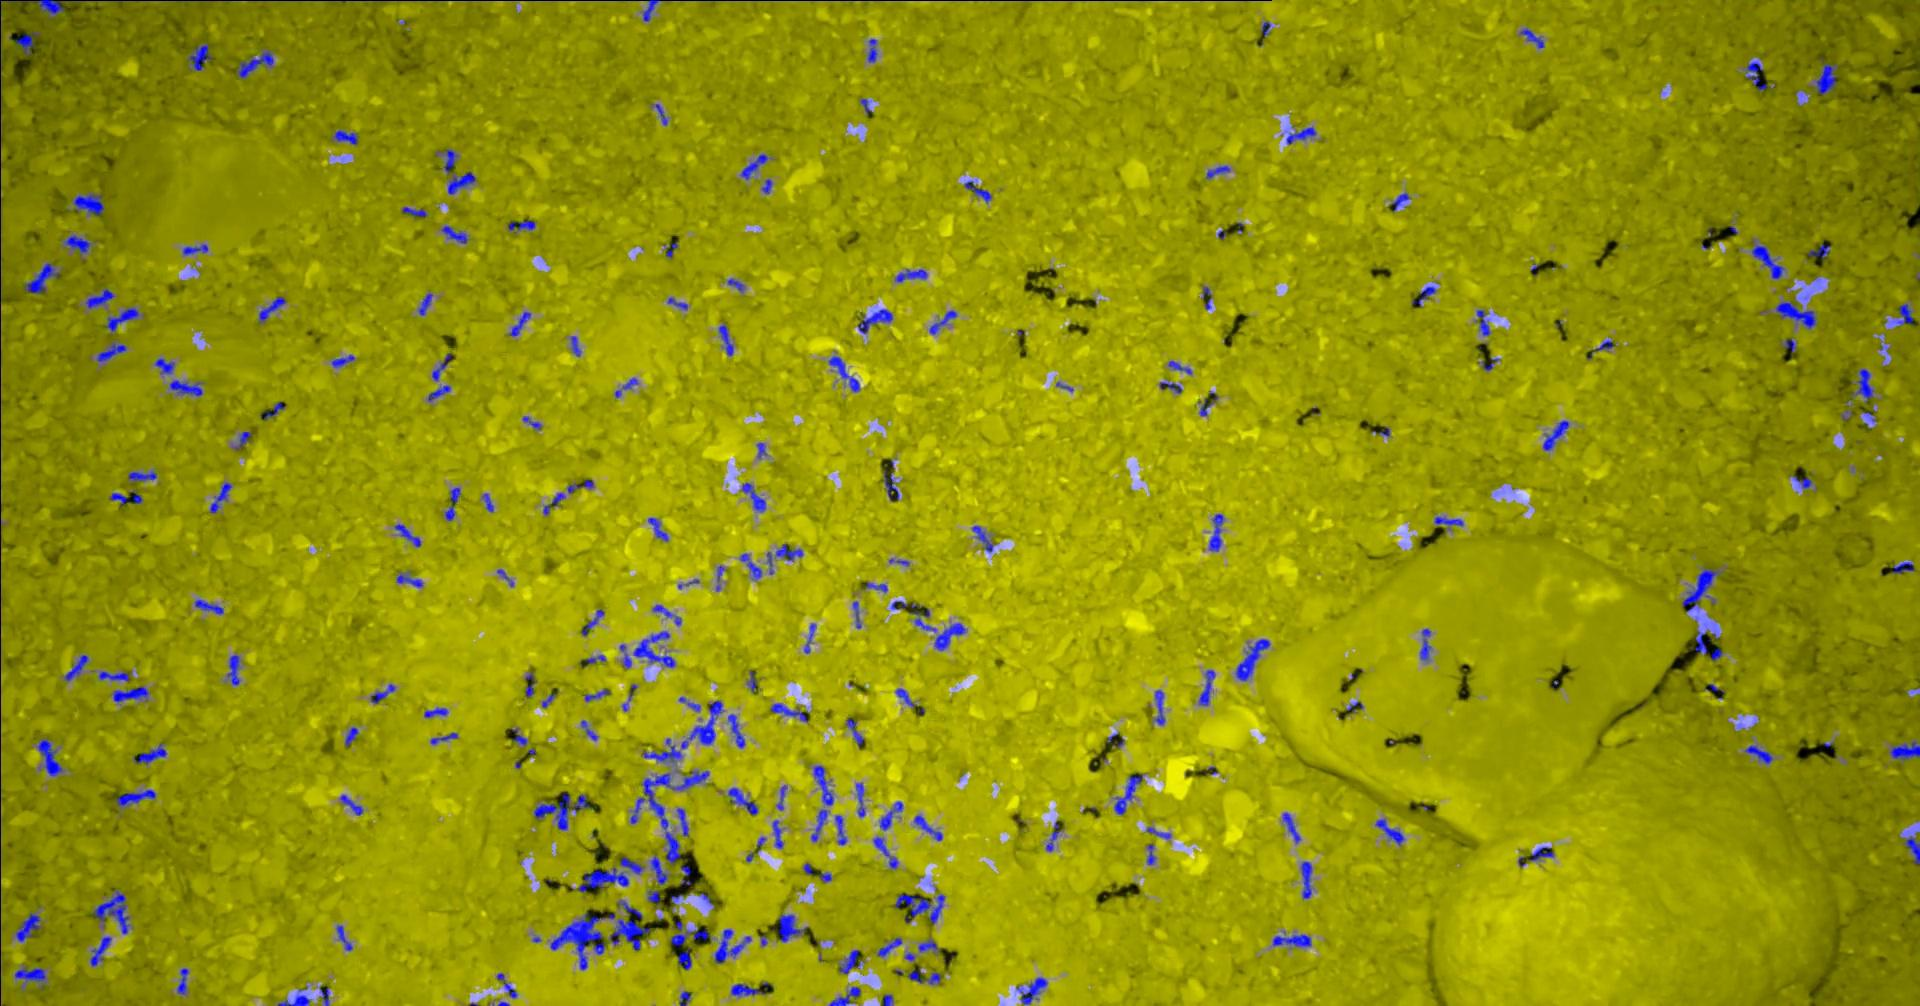ant: (632, 772, 682, 864), (535, 793, 592, 829), (1683, 567, 1721, 611), (690, 700, 725, 744), (895, 893, 946, 923), (635, 630, 677, 667), (1, 0, 88, 18), (95, 889, 130, 934), (1237, 638, 1271, 680), (891, 600, 937, 630), (573, 868, 630, 890), (611, 918, 651, 950), (716, 929, 752, 963), (1752, 241, 1785, 278), (1115, 774, 1144, 814), (25, 262, 61, 293), (768, 542, 804, 574), (830, 354, 861, 391), (1777, 301, 1817, 328), (239, 50, 276, 77), (672, 920, 710, 946), (38, 738, 63, 776), (105, 307, 145, 332), (644, 738, 683, 762), (858, 307, 894, 333), (936, 622, 968, 650), (1018, 977, 1049, 1005), (815, 765, 836, 805), (729, 788, 759, 814), (874, 837, 900, 868), (1817, 57, 1839, 94), (1377, 818, 1406, 845), (778, 915, 808, 941), (742, 152, 770, 179), (260, 296, 288, 323), (116, 789, 157, 807), (1544, 420, 1570, 450), (1854, 368, 1876, 401), (17, 913, 42, 941), (743, 481, 767, 511), (772, 702, 809, 721), (673, 770, 710, 789), (75, 192, 105, 215), (17, 967, 47, 989), (211, 481, 232, 513), (189, 43, 215, 70), (916, 815, 943, 840), (135, 743, 168, 763), (1746, 61, 1769, 90), (91, 936, 113, 967), (65, 654, 90, 680), (931, 310, 957, 334), (450, 171, 477, 194), (973, 525, 996, 553), (881, 801, 904, 829), (883, 465, 900, 500), (114, 686, 150, 704), (279, 986, 312, 1005), (395, 523, 422, 546), (582, 608, 604, 635), (729, 713, 747, 747), (830, 986, 862, 1005), (654, 605, 683, 625), (171, 379, 204, 396), (1200, 669, 1217, 705), (17, 30, 41, 55), (98, 342, 128, 361), (1210, 513, 1225, 551), (966, 180, 993, 202), (811, 809, 829, 841), (847, 716, 866, 746), (1891, 741, 1920, 760), (543, 492, 568, 514), (742, 553, 763, 578), (498, 973, 519, 998), (731, 982, 775, 995), (446, 486, 462, 520), (110, 489, 143, 506), (433, 353, 453, 380), (1284, 812, 1302, 842), (88, 288, 116, 307), (510, 311, 532, 335), (649, 517, 670, 541), (841, 949, 862, 973), (1288, 126, 1317, 144), (1274, 934, 1313, 946), (1746, 746, 1774, 763), (651, 856, 669, 884), (342, 794, 364, 815), (1521, 27, 1545, 47), (1413, 286, 1437, 306), (372, 683, 397, 702), (877, 937, 903, 956), (443, 225, 470, 243), (65, 235, 91, 253), (720, 324, 735, 354), (616, 377, 639, 398), (909, 970, 942, 984), (1201, 390, 1219, 415), (618, 901, 644, 918), (262, 401, 286, 419), (568, 478, 596, 493), (1048, 821, 1062, 851), (1302, 861, 1313, 898), (1695, 629, 1712, 654), (338, 925, 354, 950), (196, 600, 225, 614), (443, 149, 458, 175), (429, 384, 452, 401), (897, 268, 928, 281), (229, 654, 241, 685), (644, 0, 662, 22), (1898, 304, 1915, 326), (1421, 627, 1432, 661), (621, 856, 644, 873), (333, 130, 359, 144), (397, 573, 424, 587), (1906, 836, 1920, 862), (1436, 516, 1465, 528), (897, 688, 916, 708), (1156, 688, 1166, 724), (582, 720, 599, 741), (836, 815, 848, 843), (178, 967, 190, 995), (805, 622, 817, 653), (1393, 192, 1411, 211), (1478, 309, 1491, 335), (432, 732, 458, 744), (1531, 846, 1556, 860), (678, 807, 690, 836), (1810, 243, 1831, 258), (681, 696, 702, 711), (585, 688, 611, 701), (1170, 359, 1192, 373), (130, 470, 157, 481), (156, 358, 177, 373), (100, 671, 131, 681), (1148, 826, 1172, 838), (526, 671, 537, 697), (420, 293, 434, 315), (679, 948, 693, 969), (857, 782, 866, 815), (1208, 165, 1230, 178), (184, 244, 210, 255), (333, 354, 356, 367), (509, 220, 537, 230), (919, 939, 941, 951), (236, 431, 251, 448), (513, 728, 528, 746), (345, 727, 359, 746), (1161, 381, 1183, 392), (1893, 561, 1916, 573), (621, 644, 632, 667), (775, 819, 783, 848), (403, 206, 428, 216), (1793, 475, 1813, 488), (778, 785, 789, 810), (867, 580, 889, 592), (682, 864, 693, 885), (869, 38, 879, 62), (524, 417, 543, 429), (669, 297, 690, 309), (1596, 339, 1615, 351), (425, 708, 450, 716), (665, 241, 679, 257), (729, 278, 745, 291), (571, 335, 582, 356), (1204, 286, 1213, 309), (484, 493, 495, 511), (855, 601, 862, 627), (749, 669, 758, 692), (1148, 843, 1157, 864), (1785, 338, 1798, 352), (649, 890, 662, 904), (681, 989, 692, 1005), (321, 986, 330, 1005), (763, 178, 773, 193), (884, 995, 894, 1005)
